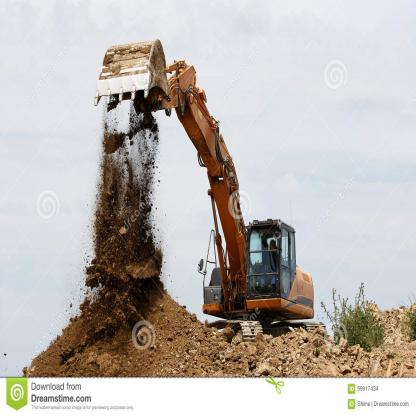excavator: (81, 32, 331, 355), (96, 36, 228, 203)
